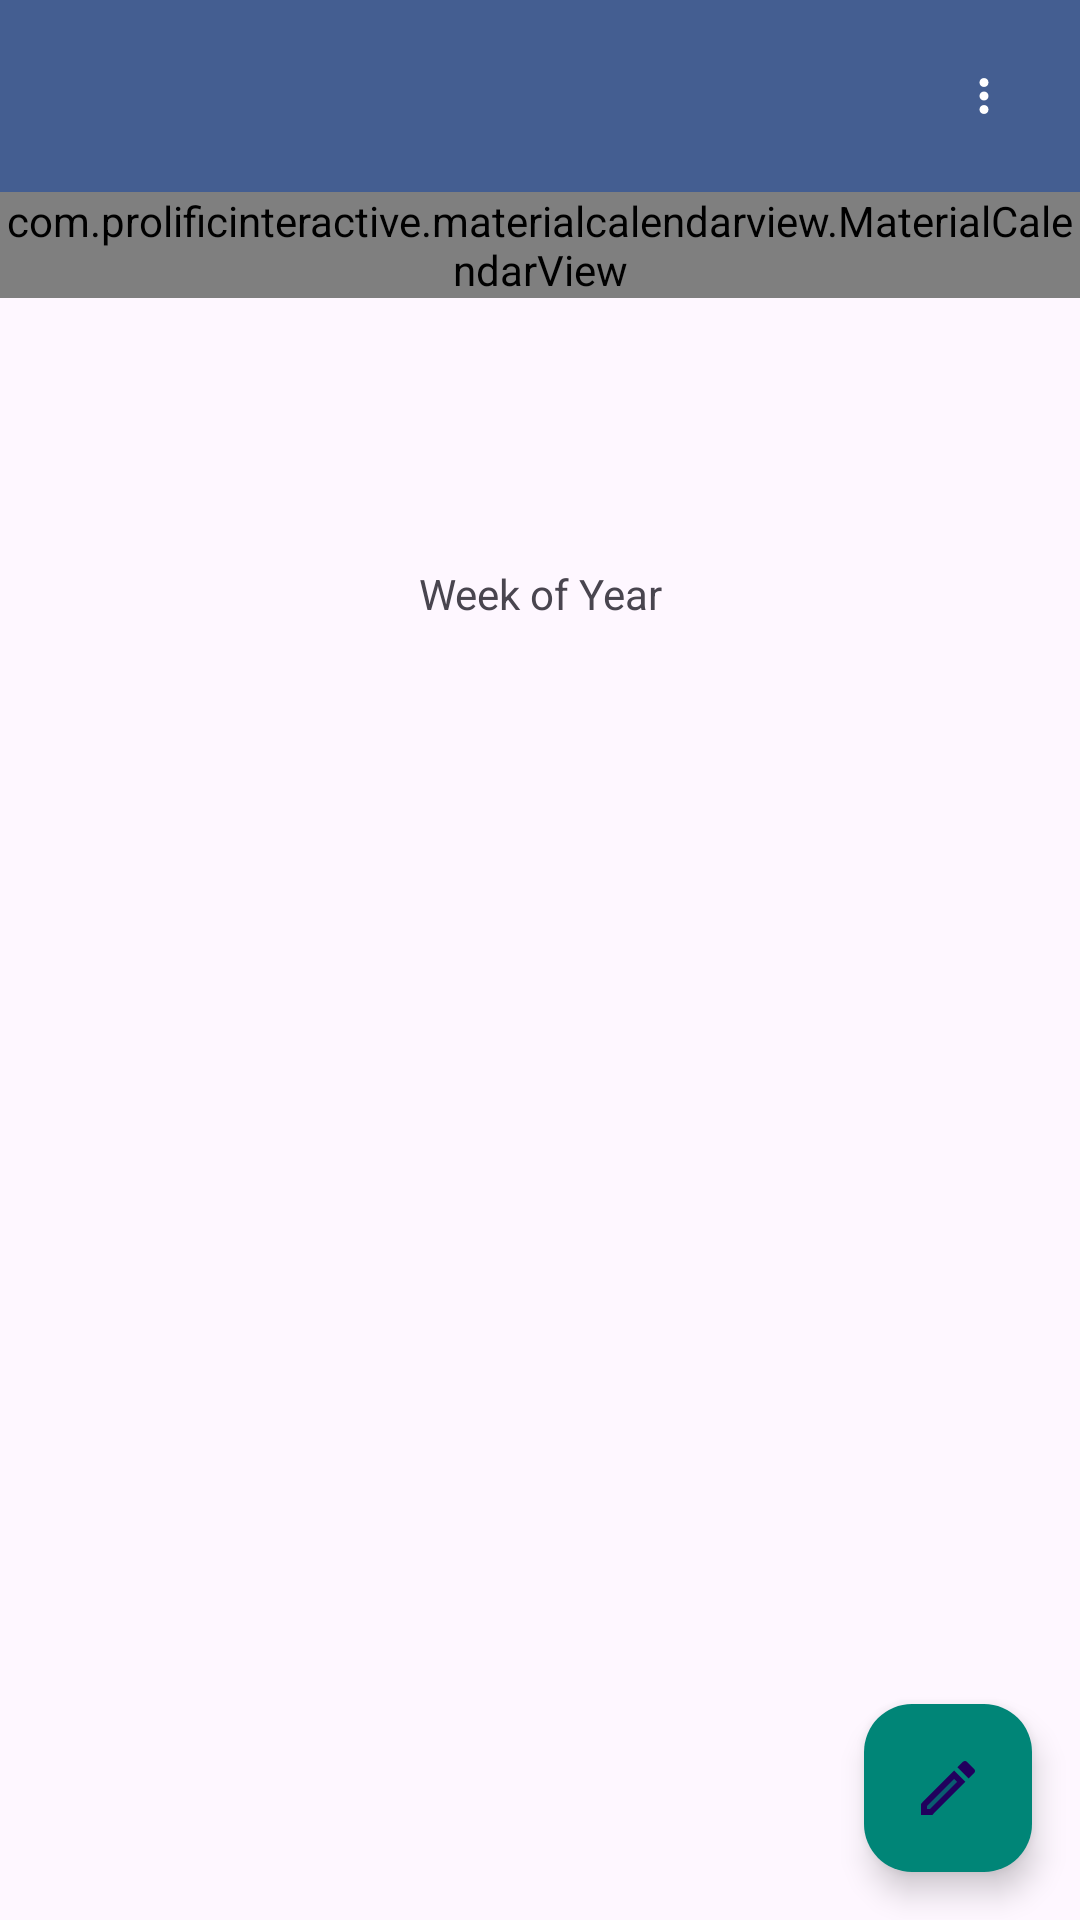

Where icons sit on this 1080 x 1920 app screen, as (x1, y1, x2, y2):
edit: (864, 1704, 1032, 1872)
more vert: (979, 78, 989, 114)
